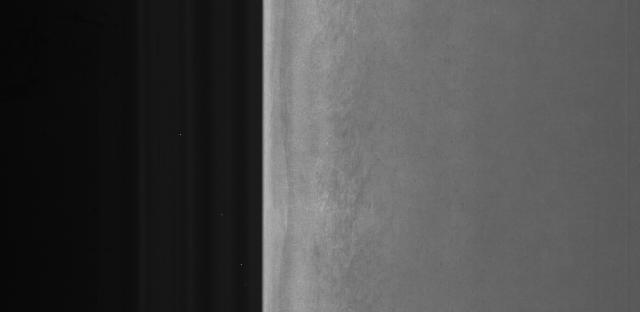silk_spot: (311, 82, 387, 251)
